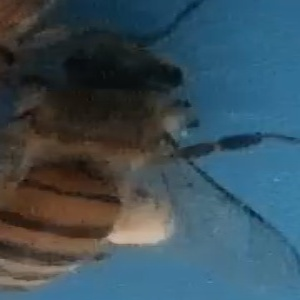bee: (10, 33, 263, 288)
